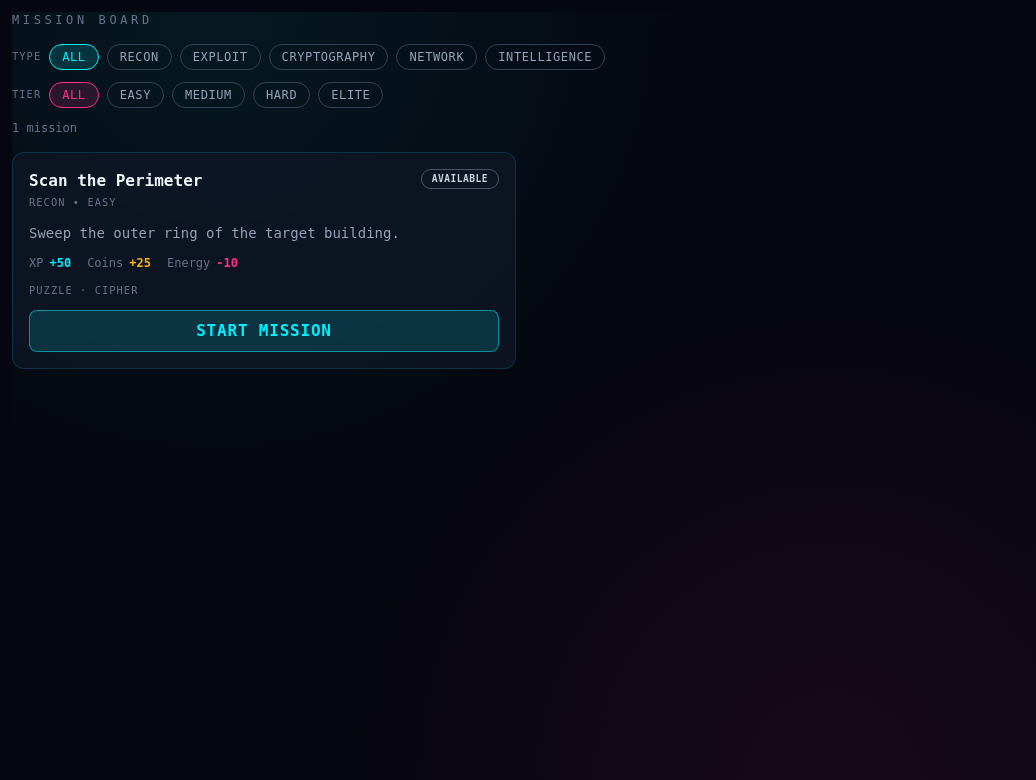
Test case: MissionBoard puzzle loop › renders a free-text challenge as an input rather than options
Expected: the heading "Scan the Perimeter" is shown, [29,169,202,193]
Click the button "Start mission" at x=264, y=331, box [29,310,499,352]
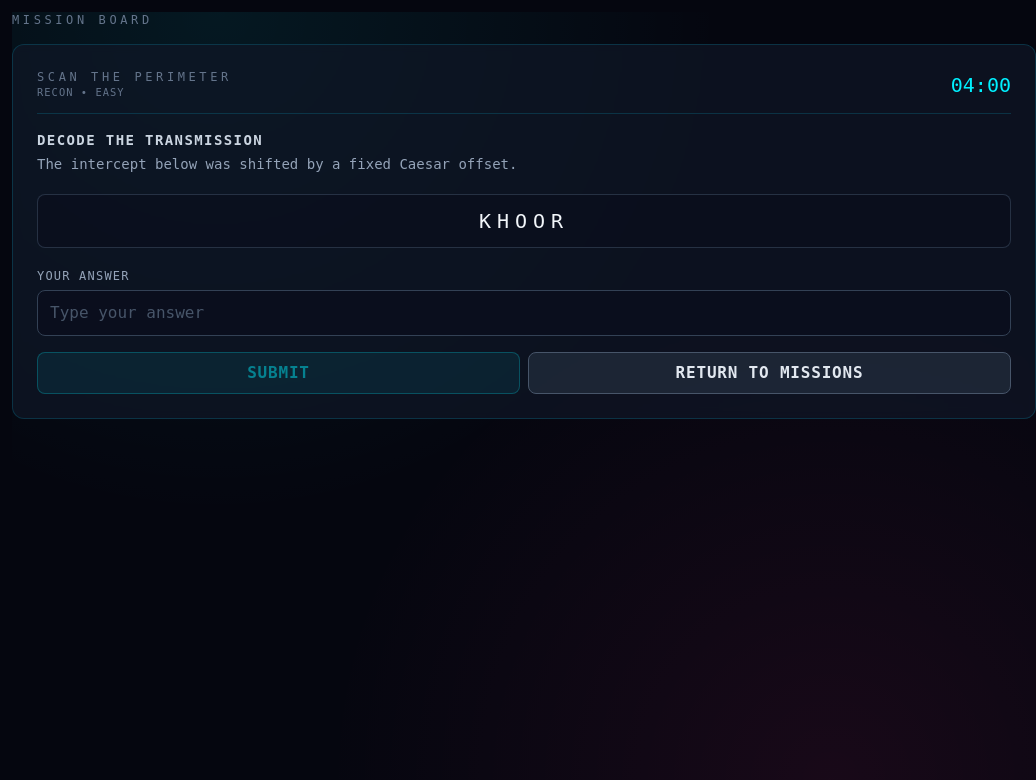
Expected: the field labelled "Your answer" is shown, [37,290,1011,336]
